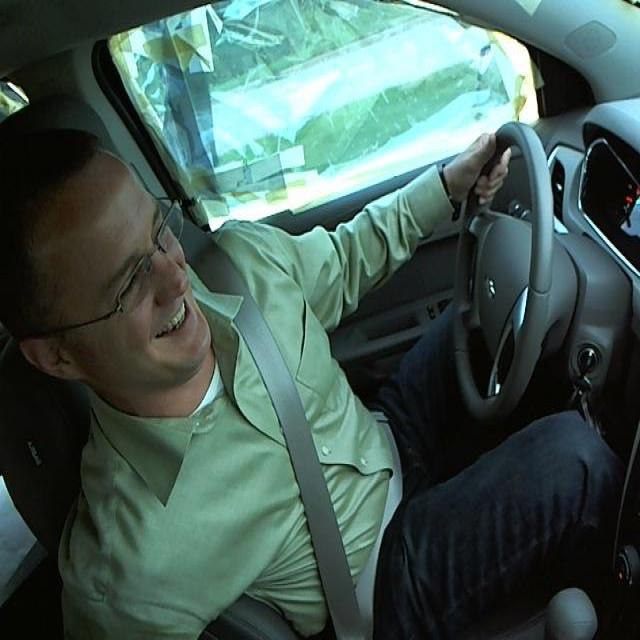seatbelt: (204, 269, 398, 628)
